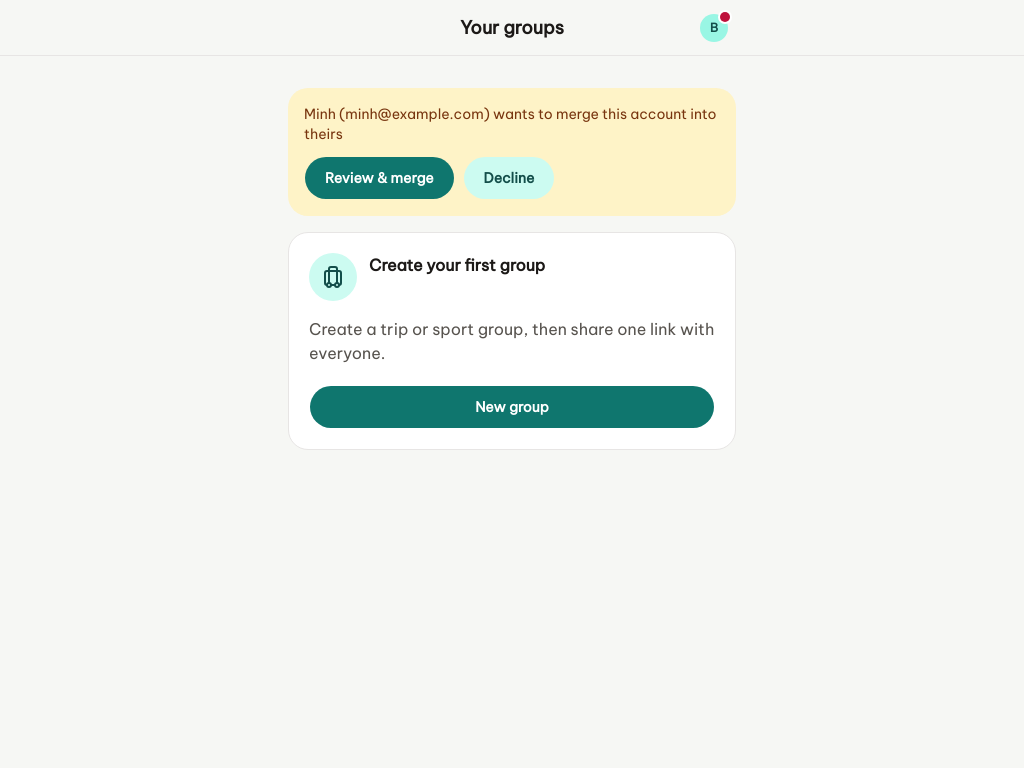
Test: merge request › the confirm sheet says what moves and what is released
Step 1. Click the button "Review & merge" → (379, 178), box [304,156,454,200]
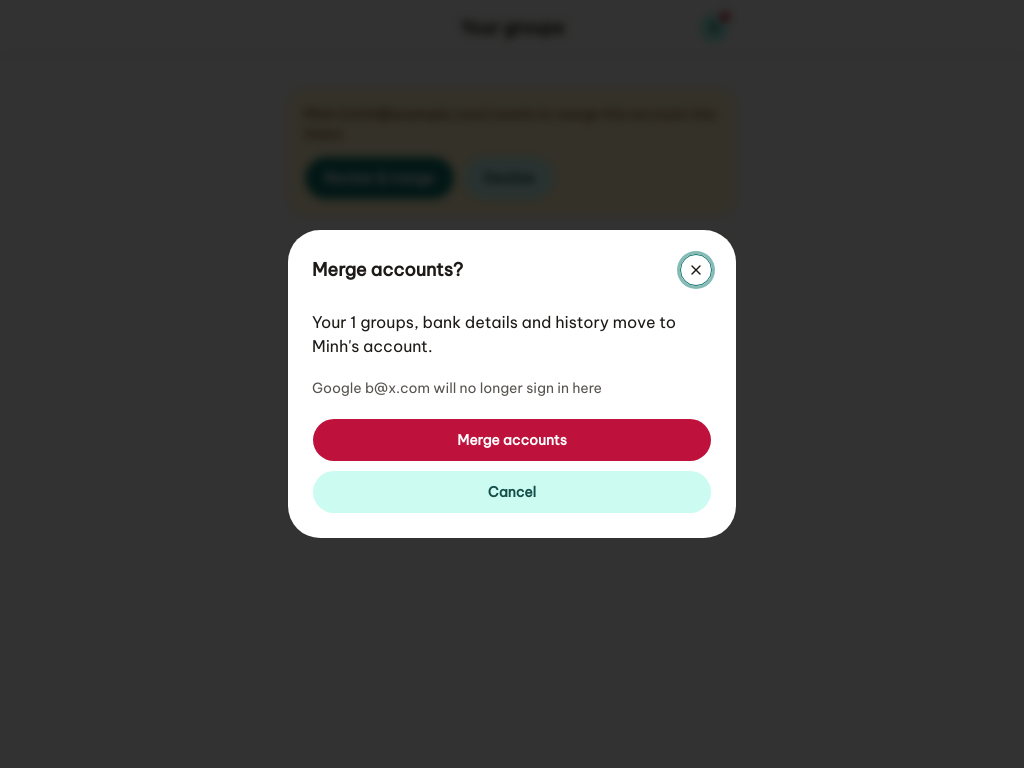
Expected: the dialog "Merge accounts?" shows "Your 1 groups, bank details and history move to Minh's account.", [312,312,676,356]
Expected: the dialog "Merge accounts?" shows "Google b@x.com will no longer sign in here", [312,379,602,397]
